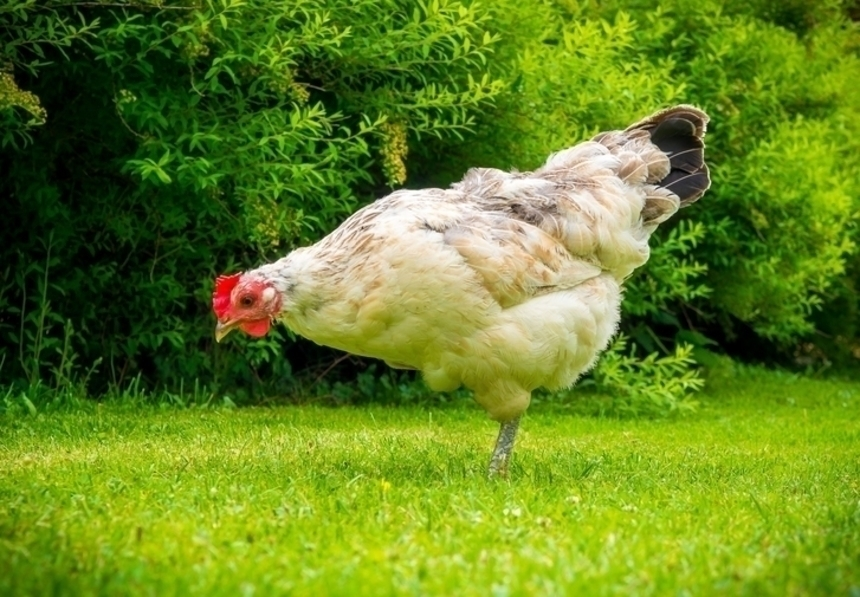chicken: (209, 96, 714, 488)
